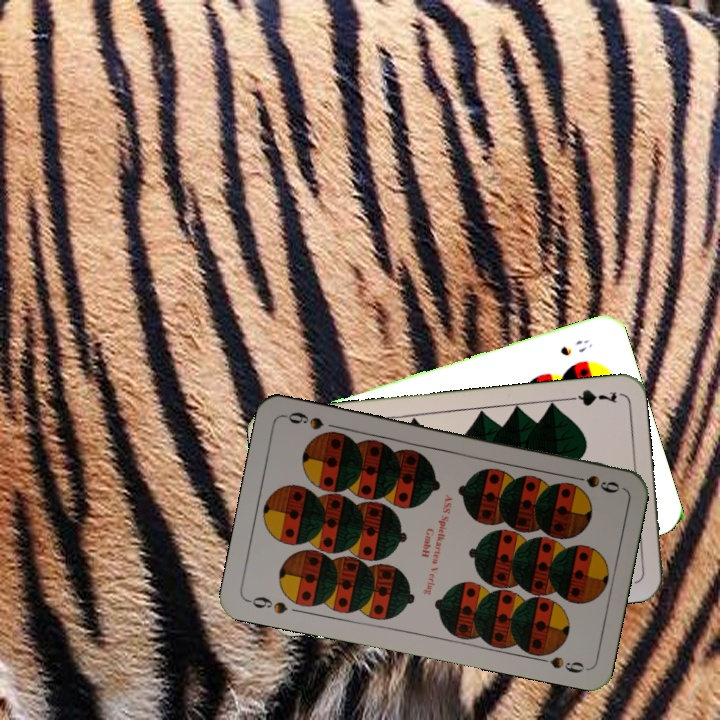G7: (560, 385, 619, 409)
S8: (556, 335, 595, 359)
S9: (564, 471, 623, 496), (243, 592, 290, 617)
